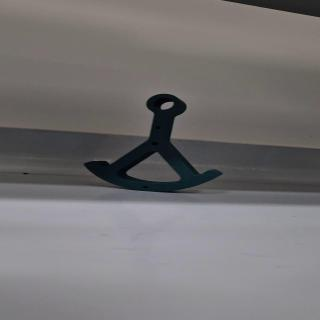haptic: (82, 93, 224, 193)
